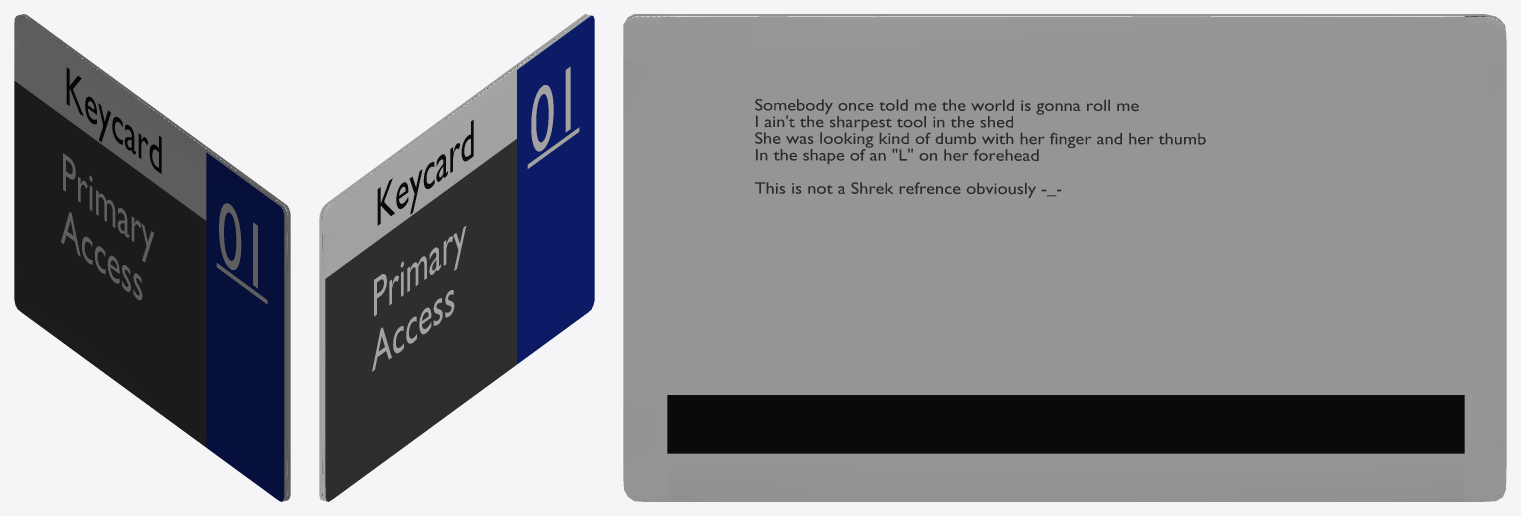
Rendered from Level1.fbx.
3 views of the same model, side by side, from view 1: azimuth 30°, elevation 25°; view 2: azimuth 150°, elevation 25°; view 3: azimuth 270°, elevation 25° (orthographic). The views are drawn at different scales.
Parts seen in each view (by area): view 1: Cube, Text.003, Text.002, Text; view 2: Cube, Text.003, Text.002, Text; view 3: Cube, Text.005.
Part boxes in pixels (bbox=[...]): Cube: bbox=[14, 14, 290, 501]; Text.003: bbox=[61, 153, 153, 300]; Text.002: bbox=[66, 67, 161, 173]; Text: bbox=[219, 203, 257, 288]; Cube: bbox=[319, 14, 594, 501]; Text.003: bbox=[372, 226, 466, 371]; Text.002: bbox=[377, 120, 473, 225]; Text: bbox=[531, 66, 570, 151]; Cube: bbox=[623, 14, 1506, 501]; Text.005: bbox=[755, 99, 1205, 197].
Bounding box in the file's own units: 7.91 × 268 × 445.
